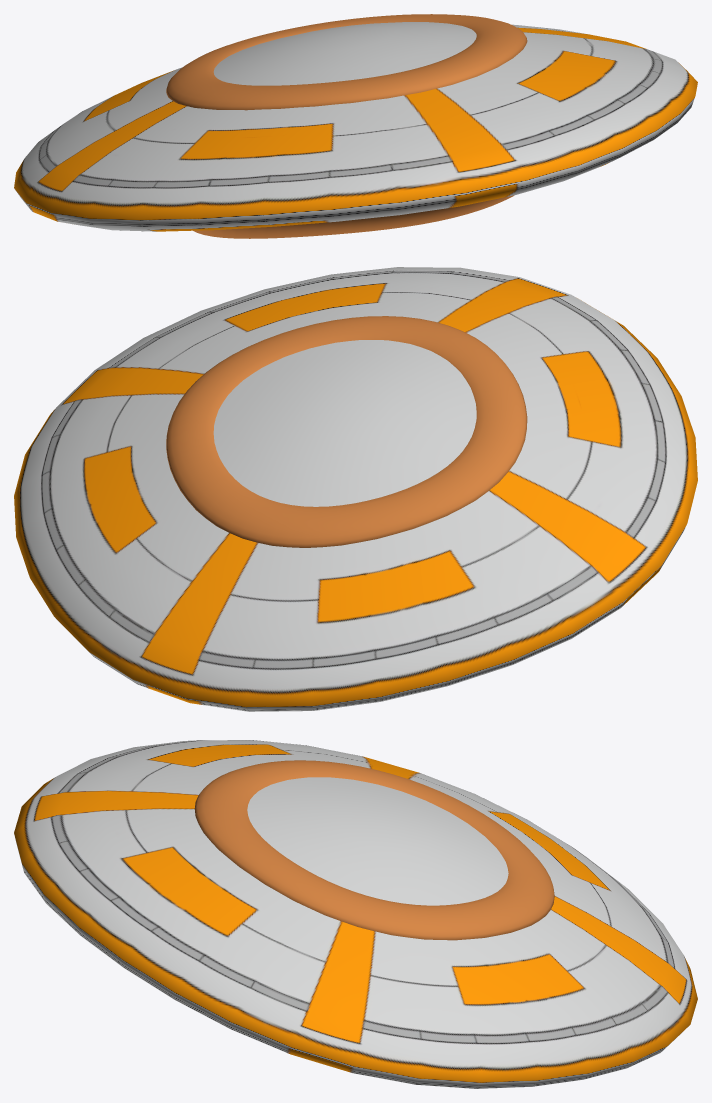
File: ufo_anim.fbx
The picture shows the model from 3 angles, top to bottom: view 1: azimuth 30°, elevation 25°; view 2: azimuth 150°, elevation 25°; view 3: azimuth 270°, elevation 25°; orthographic projection.
Parts seen in each view (by area): view 1: ufo; view 2: ufo; view 3: ufo.
Part boxes in pixels (x1,y1,x2,y2): ufo: (14, 14, 697, 238); ufo: (14, 267, 697, 711); ufo: (14, 740, 697, 1088).
Size of the model in its own units: 169 by 55.51 by 164.
Materials: 3 (1 with a texture image).
